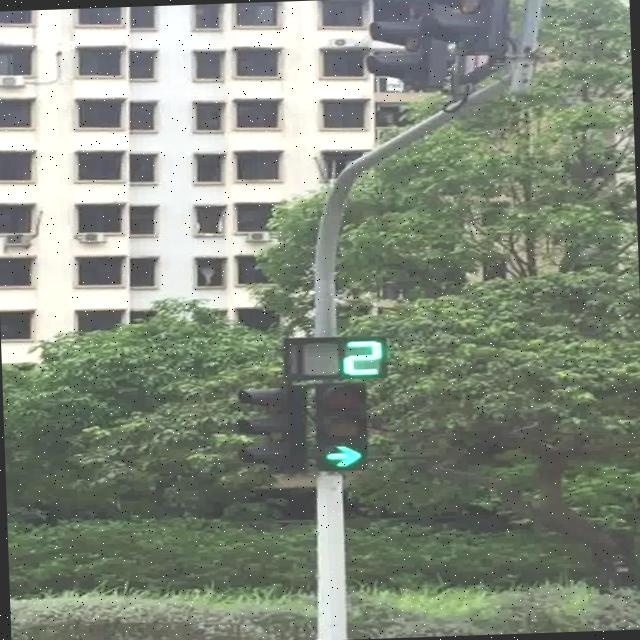green_light: (310, 382, 369, 472)
